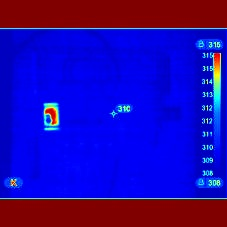Less: (44, 114, 52, 124)
